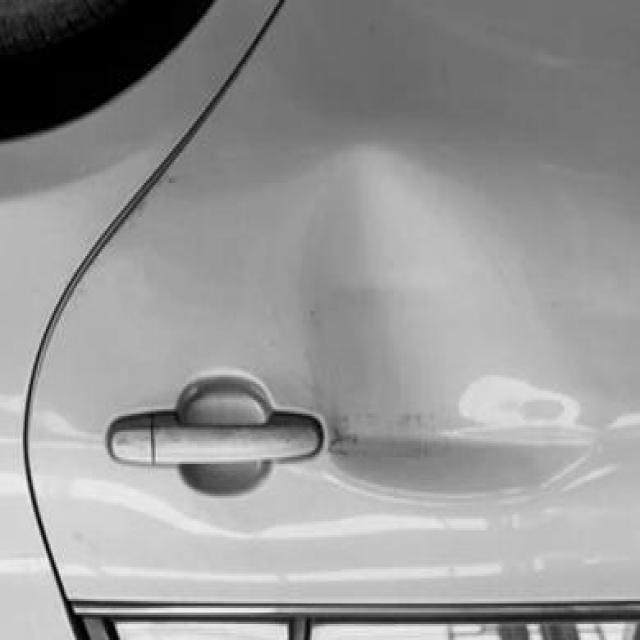dent: (274, 134, 578, 522)
